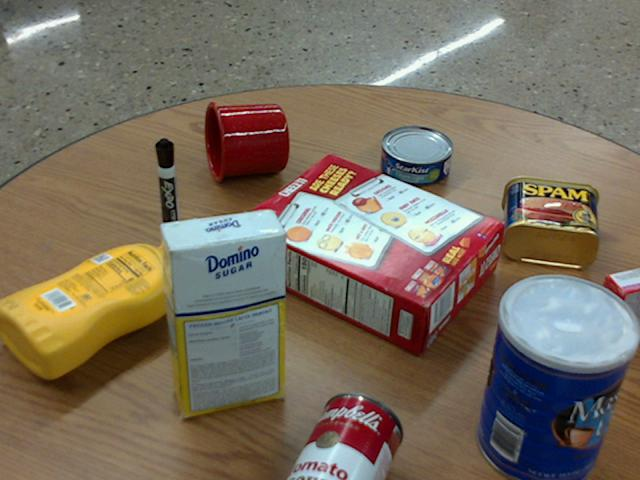cracker_box: (238, 153, 501, 350)
gelatin_box: (589, 266, 639, 348)
large_marker: (155, 138, 179, 241)
master_chef_can: (477, 274, 638, 479)
mug: (203, 101, 289, 182)
mustard_bottle: (0, 242, 196, 378)
potted_meat_can: (503, 174, 598, 268)
sugar_box: (159, 210, 284, 415)
tomato_soup_can: (288, 391, 403, 479)
tuna_fish_can: (381, 125, 453, 184)
